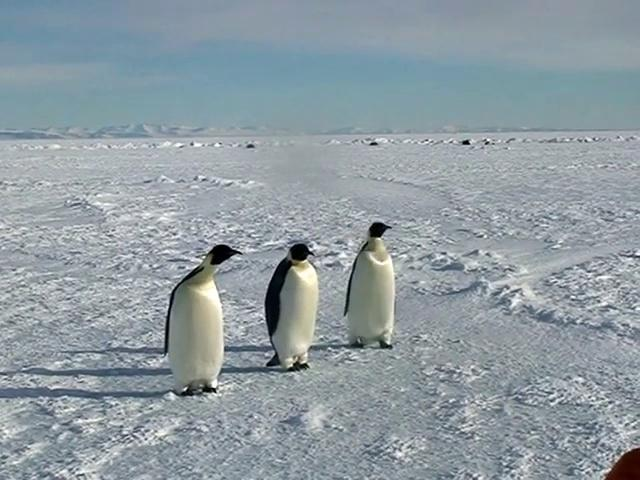animal: (345, 224, 396, 350)
